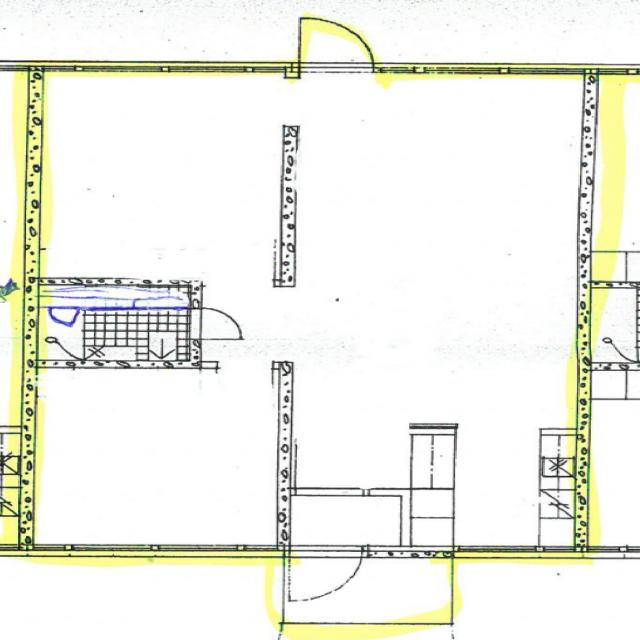door: (299, 11, 374, 74), (294, 545, 363, 604), (205, 231, 276, 285), (296, 442, 364, 497), (218, 360, 274, 406), (192, 309, 246, 339), (50, 305, 80, 330)
